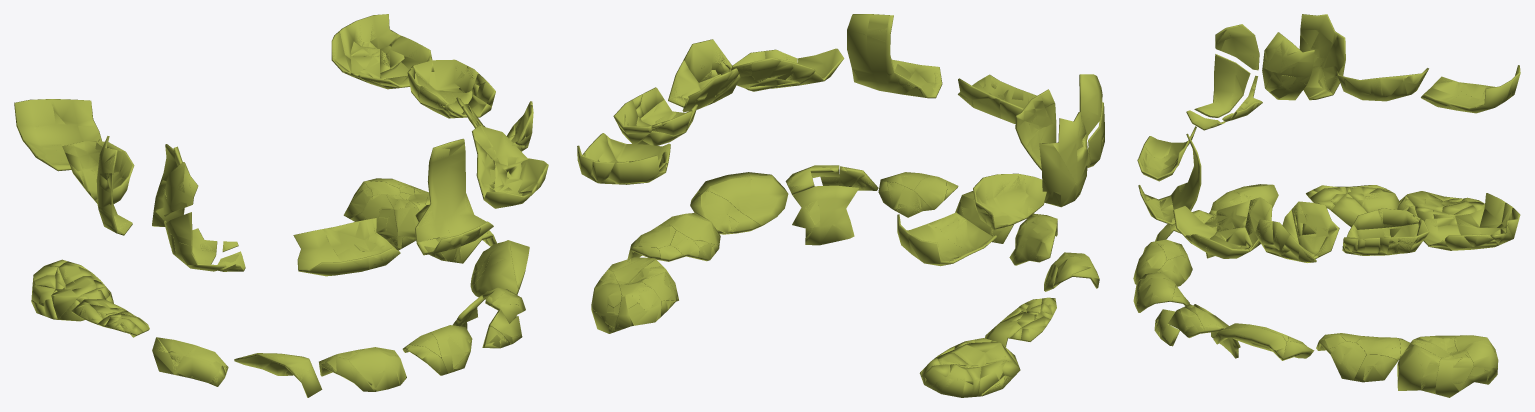
Rendered from PlaqueAll.fbx.
3 views of the same model, side by side, from view 1: azimuth 30°, elevation 25°; view 2: azimuth 150°, elevation 25°; view 3: azimuth 270°, elevation 25° (orthographic). The views are drawn at different scales.
Parts seen in each view (by area): view 1: tooth_u.048_cell.001, tooth_u.039_cell, tooth_u.041_cell.004, tooth_u.036_cell.004, tooth_u.035_cell.002, tooth_u.039_cell.003, tooth_u.035_cell.004, tooth_d.039_cell.002, tooth_d.041_cell.002, tooth_u.048_cell.001_cell, tooth_d.046_cell, tooth_u.038_cell (+24 smaller); view 2: tooth_d.040_cell.002, tooth_d.039_cell.002, tooth_u.039_cell, tooth_u.047_cell.004, tooth_u.046_cell.004, tooth_u.037_cell, tooth_d.046_cell.003, tooth_u.035_cell.003, tooth_d.046_cell, tooth_d.039_cell.004, tooth_u.038_cell.003, tooth_u.048_cell.001 (+34 smaller); view 3: tooth_u.043_cell.001, tooth_u.037_cell.003, tooth_d.037_cell.006, tooth_u.038_cell, tooth_u.043_cell.003, tooth_d.037_cell.011, tooth_u.038_cell.003, tooth_d.041_cell.002, tooth_u.048_cell.001, tooth_d.039_cell.003, tooth_u.046_cell.003, tooth_d.045_cell.003 (+38 smaller).
Part boxes in pixels (bbox=[...]): tooth_u.048_cell.001: bbox=[14, 99, 99, 150]; tooth_u.039_cell: bbox=[433, 138, 486, 233]; tooth_u.041_cell.004: bbox=[293, 229, 368, 276]; tooth_u.036_cell.004: bbox=[412, 59, 478, 92]; tooth_u.035_cell.002: bbox=[346, 14, 399, 48]; tooth_u.039_cell.003: bbox=[415, 147, 450, 242]; tooth_u.035_cell.004: bbox=[380, 36, 431, 78]; tooth_d.039_cell.002: bbox=[471, 240, 518, 299]; tooth_d.041_cell.002: bbox=[431, 325, 472, 373]; tooth_u.048_cell.001_cell: bbox=[49, 99, 96, 125]; tooth_d.046_cell: bbox=[51, 263, 96, 318]; tooth_u.038_cell: bbox=[494, 158, 548, 195]; tooth_d.040_cell.002: bbox=[792, 185, 858, 245]; tooth_d.039_cell.002: bbox=[704, 175, 788, 226]; tooth_u.039_cell: bbox=[847, 14, 889, 92]; tooth_u.047_cell.004: bbox=[991, 173, 1046, 219]; tooth_u.046_cell.004: bbox=[1039, 143, 1075, 204]; tooth_u.037_cell: bbox=[683, 40, 732, 82]; tooth_d.046_cell.003: bbox=[922, 364, 973, 397]; tooth_u.035_cell.003: bbox=[608, 155, 666, 183]; tooth_d.046_cell: bbox=[920, 342, 1018, 376]; tooth_d.039_cell.004: bbox=[701, 191, 760, 233]; tooth_u.038_cell.003: bbox=[797, 48, 844, 85]; tooth_u.048_cell.001: bbox=[897, 214, 959, 263]; tooth_u.043_cell.001: bbox=[1195, 54, 1250, 117]; tooth_u.037_cell.003: bbox=[1291, 201, 1339, 257]; tooth_d.037_cell.006: bbox=[1397, 344, 1440, 393]; tooth_u.038_cell: bbox=[1186, 227, 1252, 258]; tooth_u.043_cell.003: bbox=[1215, 24, 1259, 70]; tooth_d.037_cell.011: bbox=[1435, 350, 1473, 397]; tooth_u.038_cell.003: bbox=[1173, 206, 1216, 243]; tooth_d.041_cell.002: bbox=[1134, 278, 1174, 312]; tooth_u.048_cell.001: bbox=[1462, 65, 1520, 113]; tooth_d.039_cell.003: bbox=[1218, 327, 1286, 357]; tooth_u.046_cell.003: bbox=[1300, 14, 1338, 65]; tooth_d.045_cell.003: bbox=[1346, 187, 1399, 212].
Bounding box in the file's own units: 445 × 249 × 405.
